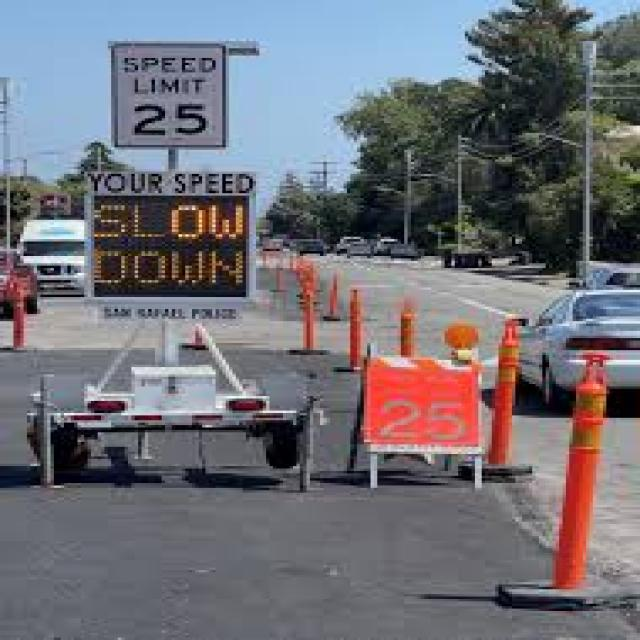speedLimit25: (111, 41, 226, 150)
